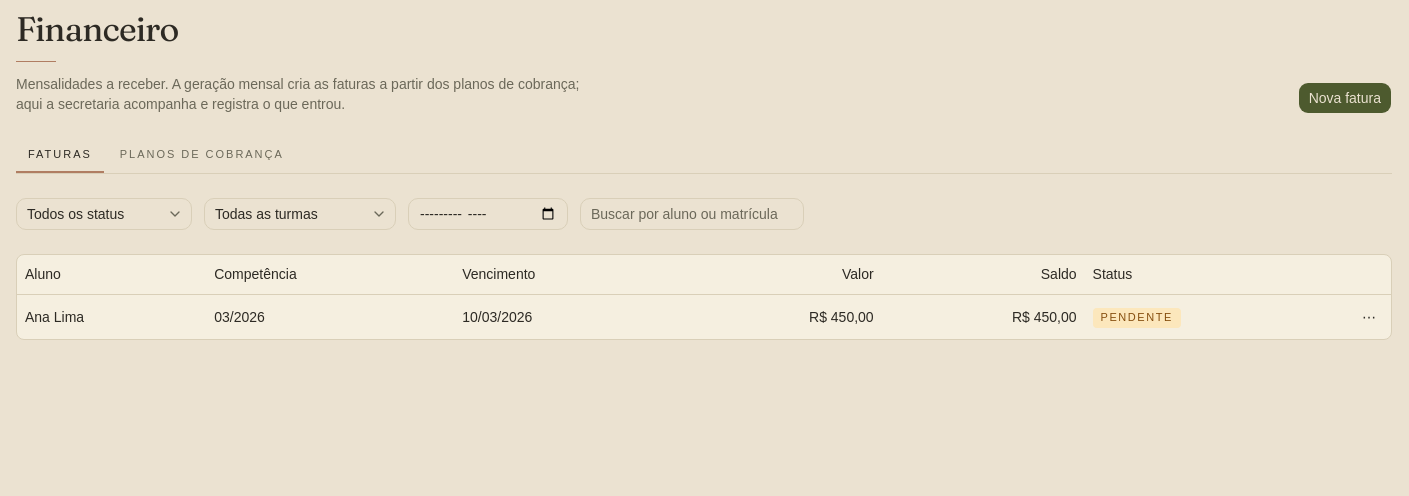
FaturasPage — emitir cobrança › oferece a emissão numa fatura pendente
Click the button named "Ações da fatura" at (1369, 317), box [1355,303,1383,331]
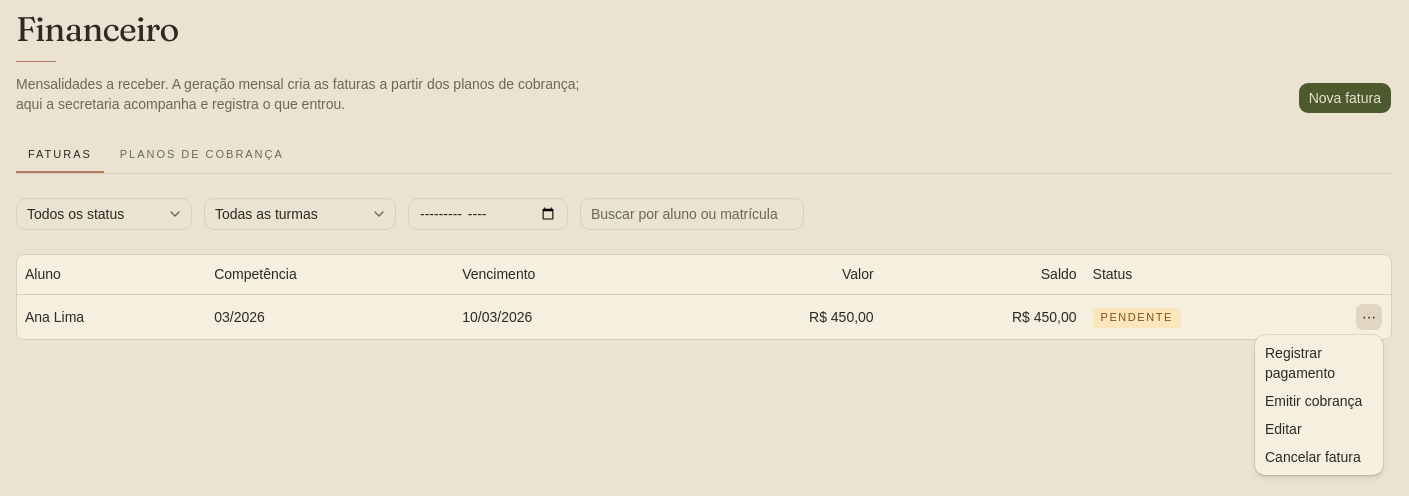
expect the menu item "Emitir cobrança" is shown: met, box [1265,393,1362,409]
